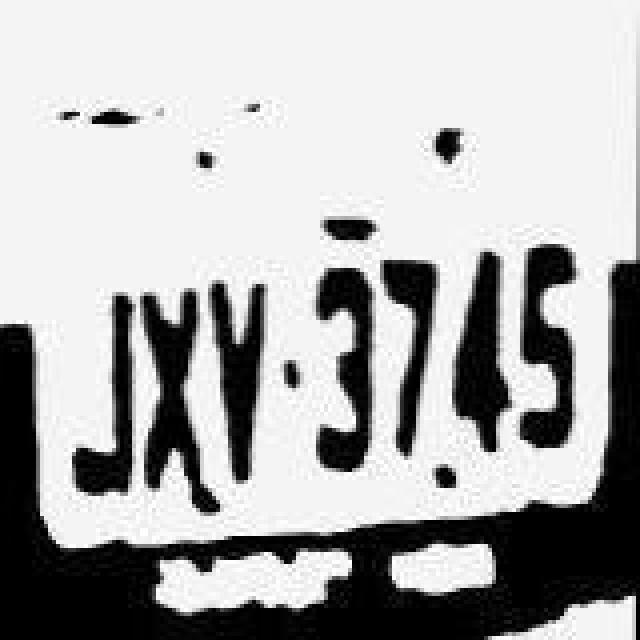3: (306, 252, 378, 484)
4: (444, 228, 512, 460)
5: (514, 242, 586, 462)
7: (380, 242, 448, 462)
J: (68, 270, 136, 498)
V: (208, 264, 284, 488)
X: (132, 274, 200, 494)
